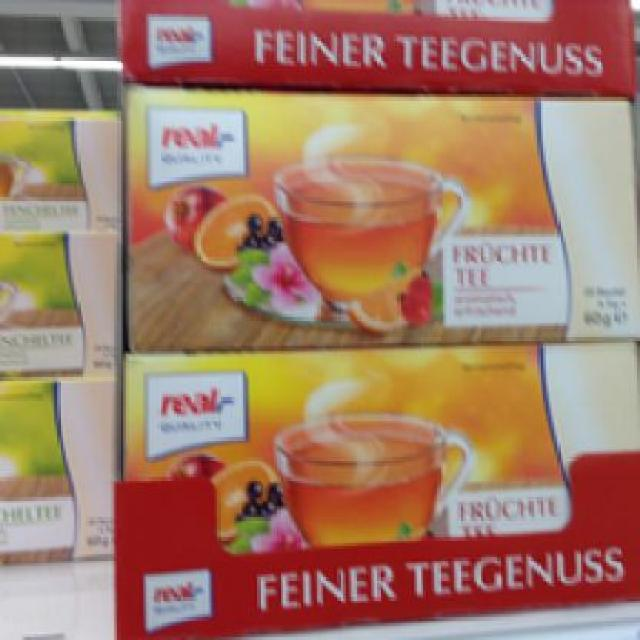Tea: (122, 76, 638, 352), (120, 336, 637, 550)
